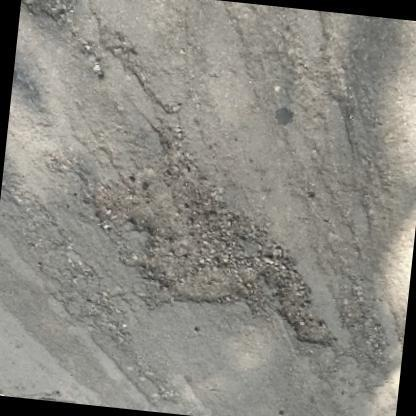pothole: (83, 127, 332, 350)
